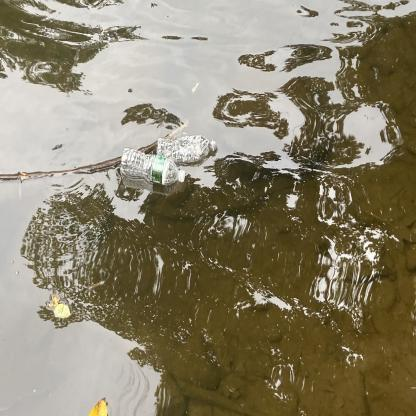trash: (118, 143, 188, 190), (154, 132, 221, 166)
